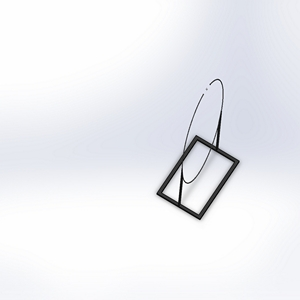circle: (155, 78, 240, 219)
